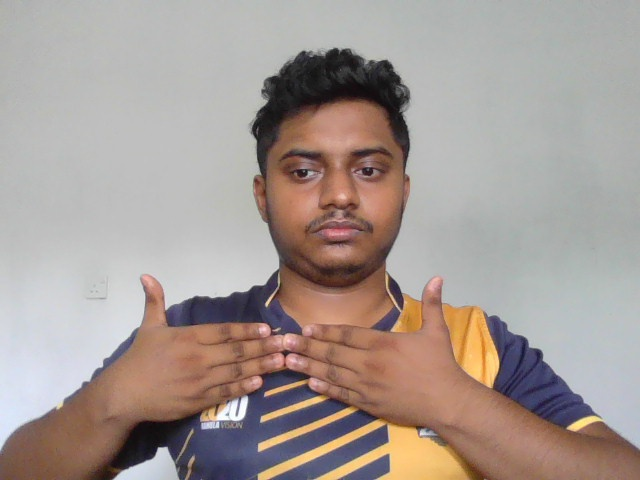Thank You: (128, 271, 464, 435)
